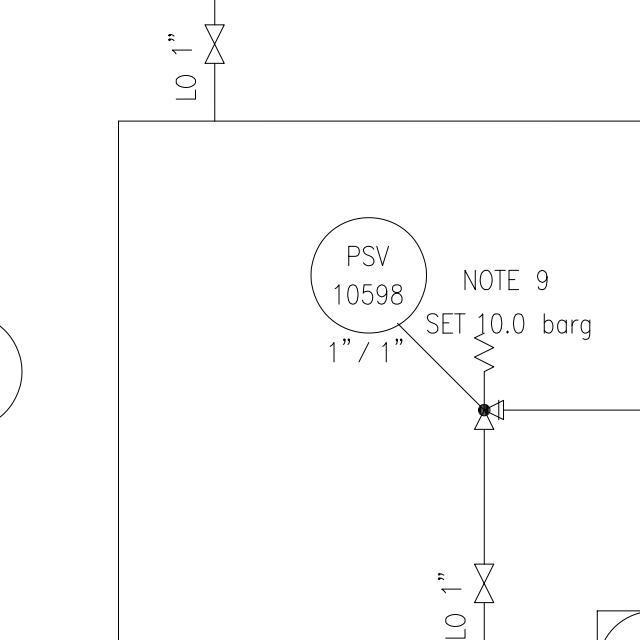GV: (469, 558, 498, 609), (199, 18, 229, 67)
RPV: (469, 328, 511, 436)
